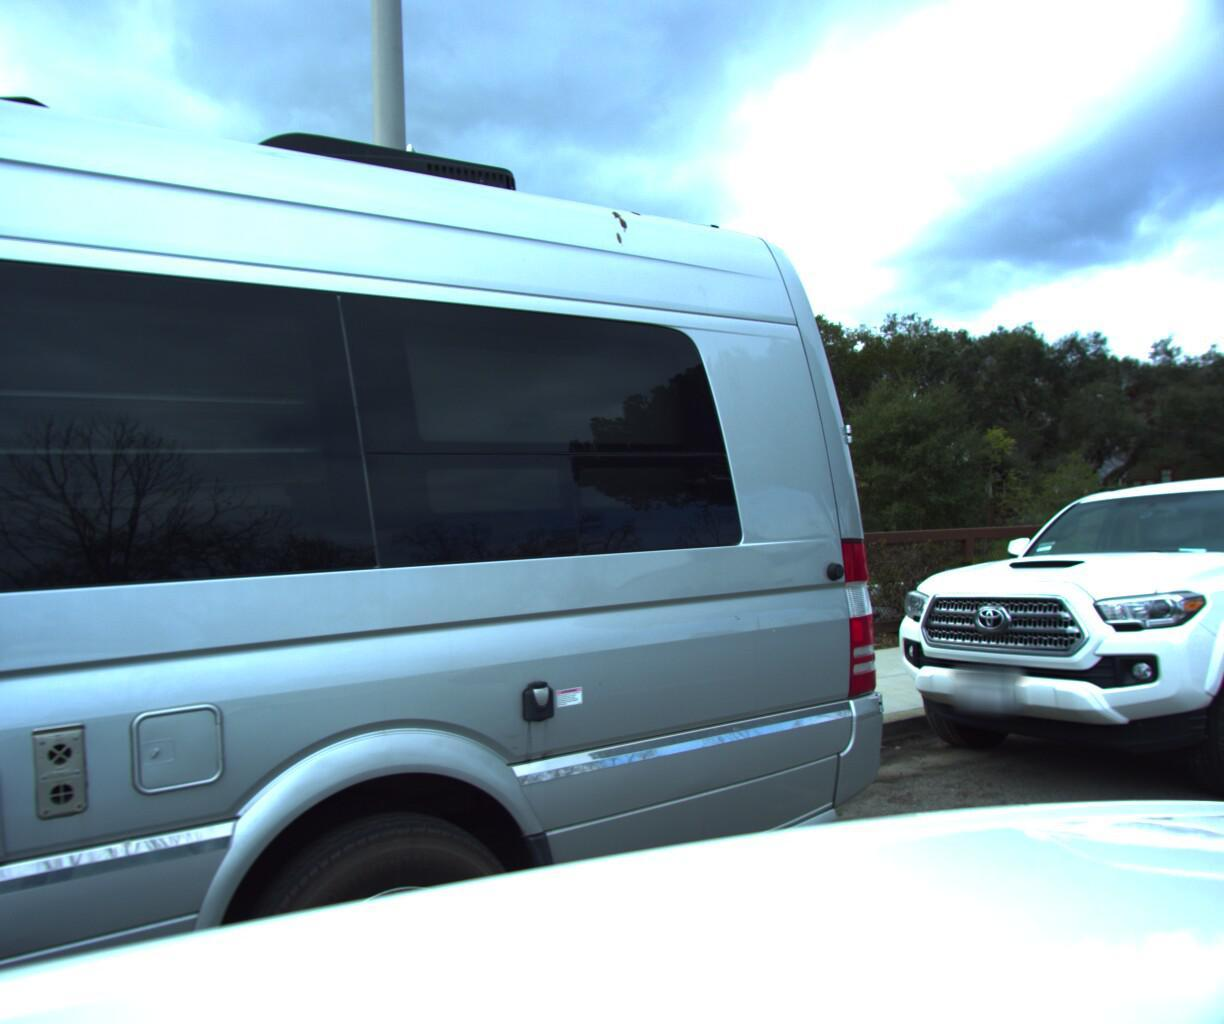car: (861, 472, 1224, 866)
